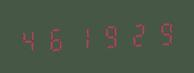four: (17, 24, 42, 55)
nine: (96, 20, 121, 51), (148, 17, 173, 48)
one: (70, 21, 95, 53)
six: (43, 22, 68, 54)
two: (122, 18, 147, 50)
